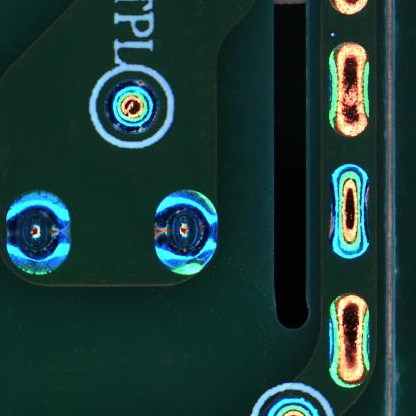spot: (134, 179, 228, 288), (1, 177, 80, 285), (96, 74, 173, 147)
